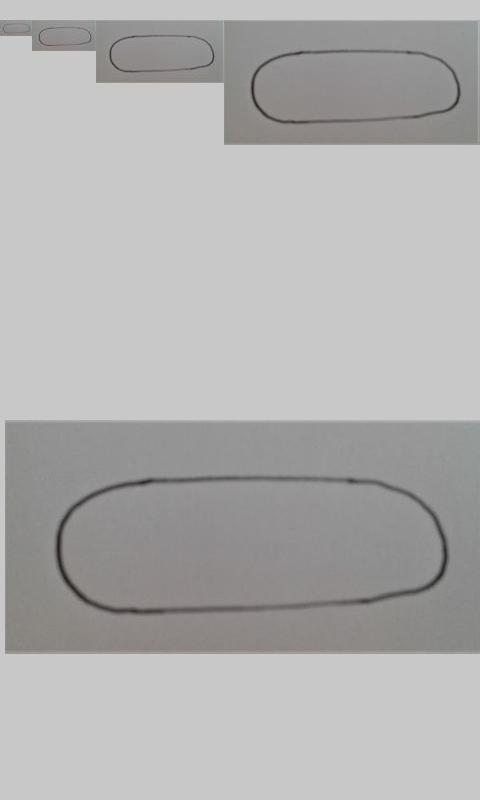chip: (53, 474, 450, 618), (251, 50, 462, 125), (109, 34, 215, 73), (38, 27, 92, 47), (2, 22, 31, 34)
